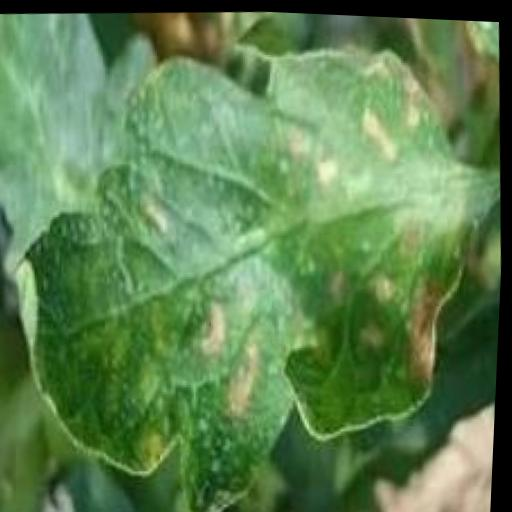Late Blight: (0, 13, 512, 512)
